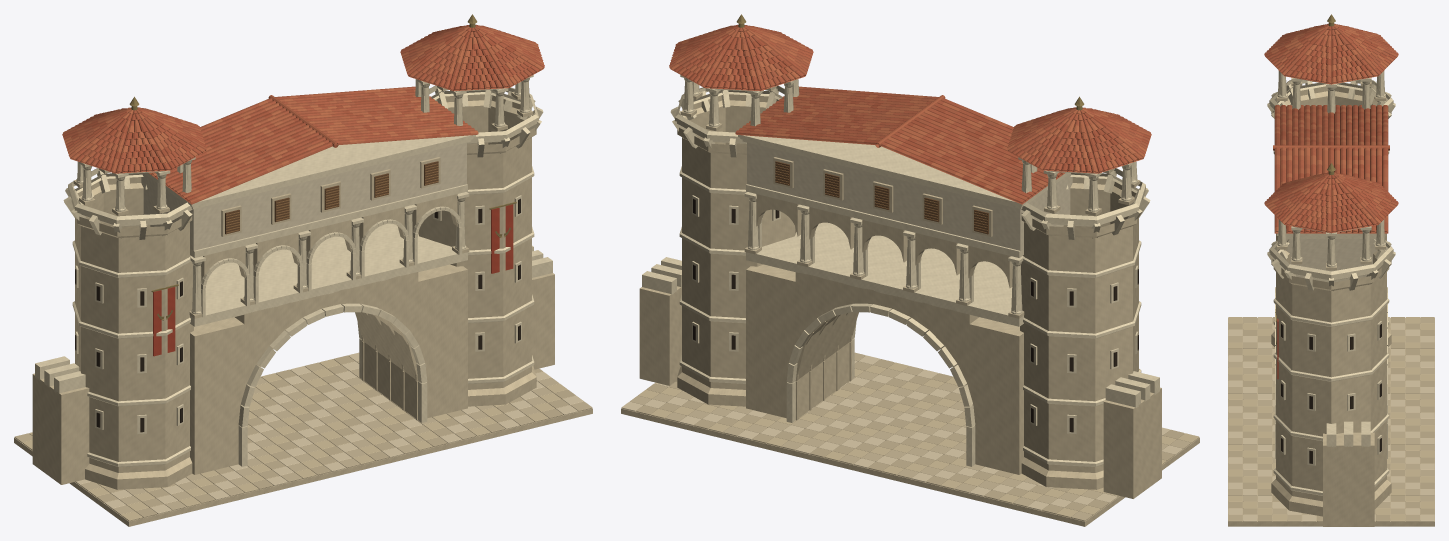
The model's file is stadttor.glb.
The picture shows the model from 3 angles, left to right: view 1: azimuth 30°, elevation 25°; view 2: azimuth 150°, elevation 25°; view 3: azimuth 270°, elevation 25°; orthographic projection. The views are drawn at different scales.
Parts seen in each view (by area): view 1: Travertine.004, Limestone_trim.004, Travertine.001, Tile_0.004, Limestone_trim.001, Limewash.004, Paving_1.004, Paving_3.004, Tile_2.004, Paving_0.004, Paving_2.004, Tile_3.004 (+15 smaller); view 2: Travertine.004, Limestone_trim.004, Travertine.001, Limestone_trim.001, Tile_0.004, Limewash.004, Tile_2.004, Paving_1.004, Paving_0.004, Paving_3.004, Tile_3.004, Tile_1.004 (+12 smaller); view 3: Travertine.004, Tile_0.004, Limestone_trim.004, Paving_3.004, Paving_2.004, Paving_0.004, Paving_1.004, Tile_3.004, Tile_5.004, Tile_1.004, Tile_2.004, Tile_4.004 (+11 smaller).
Part boxes in pixels (x1=…): Travertine.004: x1=15, y1=86, x2=591, y2=524; Limestone_trim.004: x1=35, y1=78, x2=551, y2=466; Travertine.001: x1=14, y1=86, x2=592, y2=526; Tile_0.004: x1=62, y1=25, x2=544, y2=197; Limestone_trim.001: x1=35, y1=75, x2=552, y2=466; Limewash.004: x1=141, y1=144, x2=466, y2=250; Paving_1.004: x1=31, y1=355, x2=575, y2=517; Paving_3.004: x1=14, y1=361, x2=592, y2=514; Tile_2.004: x1=71, y1=25, x2=543, y2=204; Paving_0.004: x1=23, y1=359, x2=567, y2=521; Paving_2.004: x1=75, y1=353, x2=583, y2=514; Tile_3.004: x1=64, y1=25, x2=543, y2=200; Travertine.004: x1=622, y1=86, x2=1162, y2=525; Limestone_trim.004: x1=642, y1=75, x2=1158, y2=466; Travertine.001: x1=621, y1=86, x2=1199, y2=526; Limestone_trim.001: x1=642, y1=75, x2=1159, y2=466; Tile_0.004: x1=670, y1=24, x2=1146, y2=203; Limewash.004: x1=786, y1=154, x2=1019, y2=250; Tile_2.004: x1=669, y1=26, x2=1150, y2=204; Paving_1.004: x1=636, y1=359, x2=1184, y2=514; Paving_0.004: x1=638, y1=362, x2=1199, y2=517; Paving_3.004: x1=630, y1=353, x2=1190, y2=521; Tile_3.004: x1=670, y1=25, x2=1146, y2=197; Tile_1.004: x1=677, y1=26, x2=1151, y2=201; Travertine.004: x1=1242, y1=82, x2=1432, y2=526; Tile_0.004: x1=1264, y1=24, x2=1398, y2=232; Limestone_trim.004: x1=1267, y1=71, x2=1395, y2=495; Paving_3.004: x1=1228, y1=317, x2=1434, y2=521; Paving_2.004: x1=1228, y1=317, x2=1434, y2=521; Paving_0.004: x1=1228, y1=317, x2=1434, y2=521; Paving_1.004: x1=1228, y1=317, x2=1434, y2=521; Tile_3.004: x1=1266, y1=23, x2=1388, y2=232; Tile_5.004: x1=1265, y1=25, x2=1393, y2=232; Tile_1.004: x1=1273, y1=23, x2=1398, y2=232; Tile_2.004: x1=1264, y1=26, x2=1397, y2=233; Tile_4.004: x1=1264, y1=25, x2=1398, y2=230.
Size of the model in its own units: 29.8 by 21.52 by 12.
Materials: 18 (7 with a texture image).
